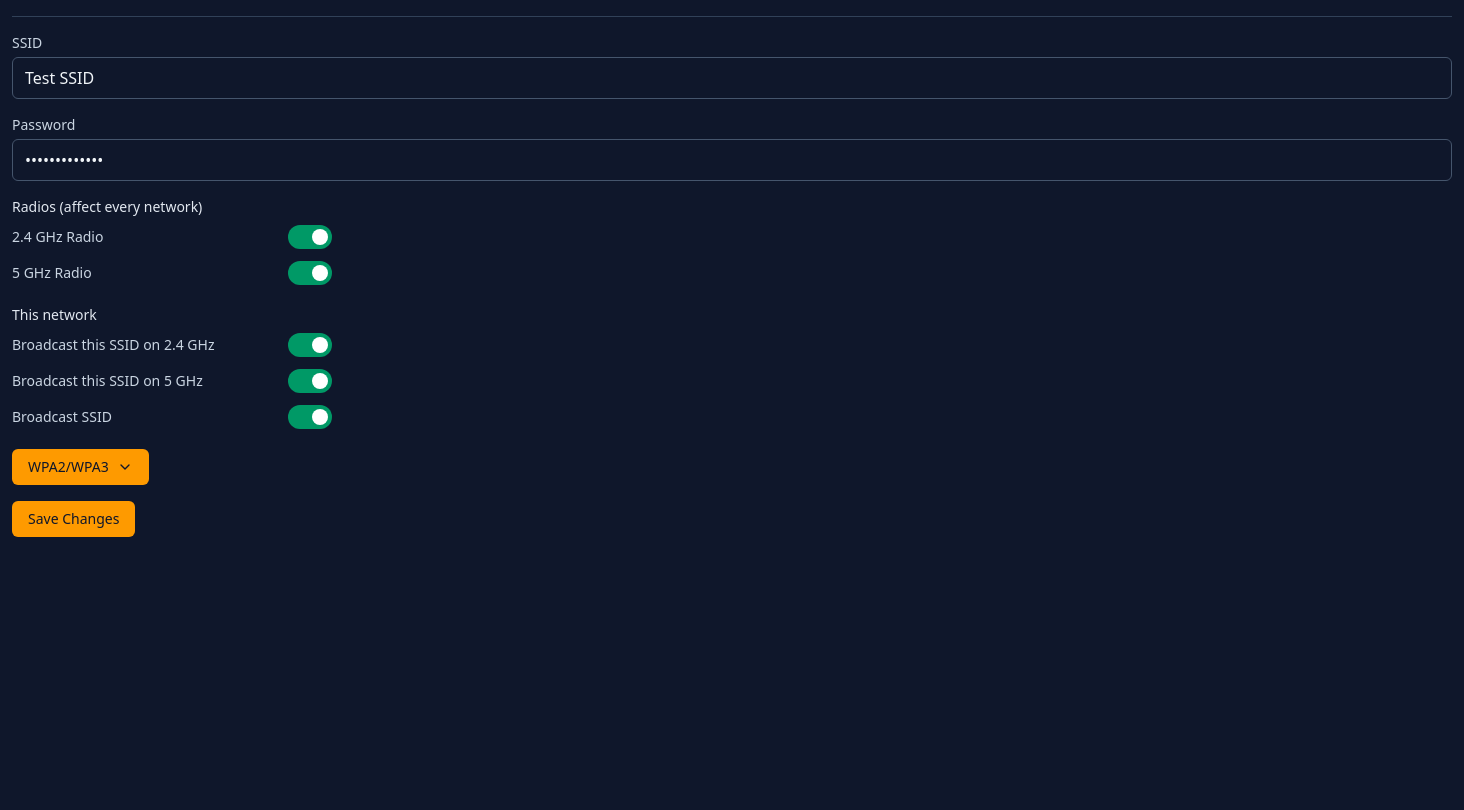
it: WifiSettings › requires explicit confirmation before disabling a radio
Click the switch named "5 GHz Radio". click: (310, 273)
box: 288,261 -> 332,285
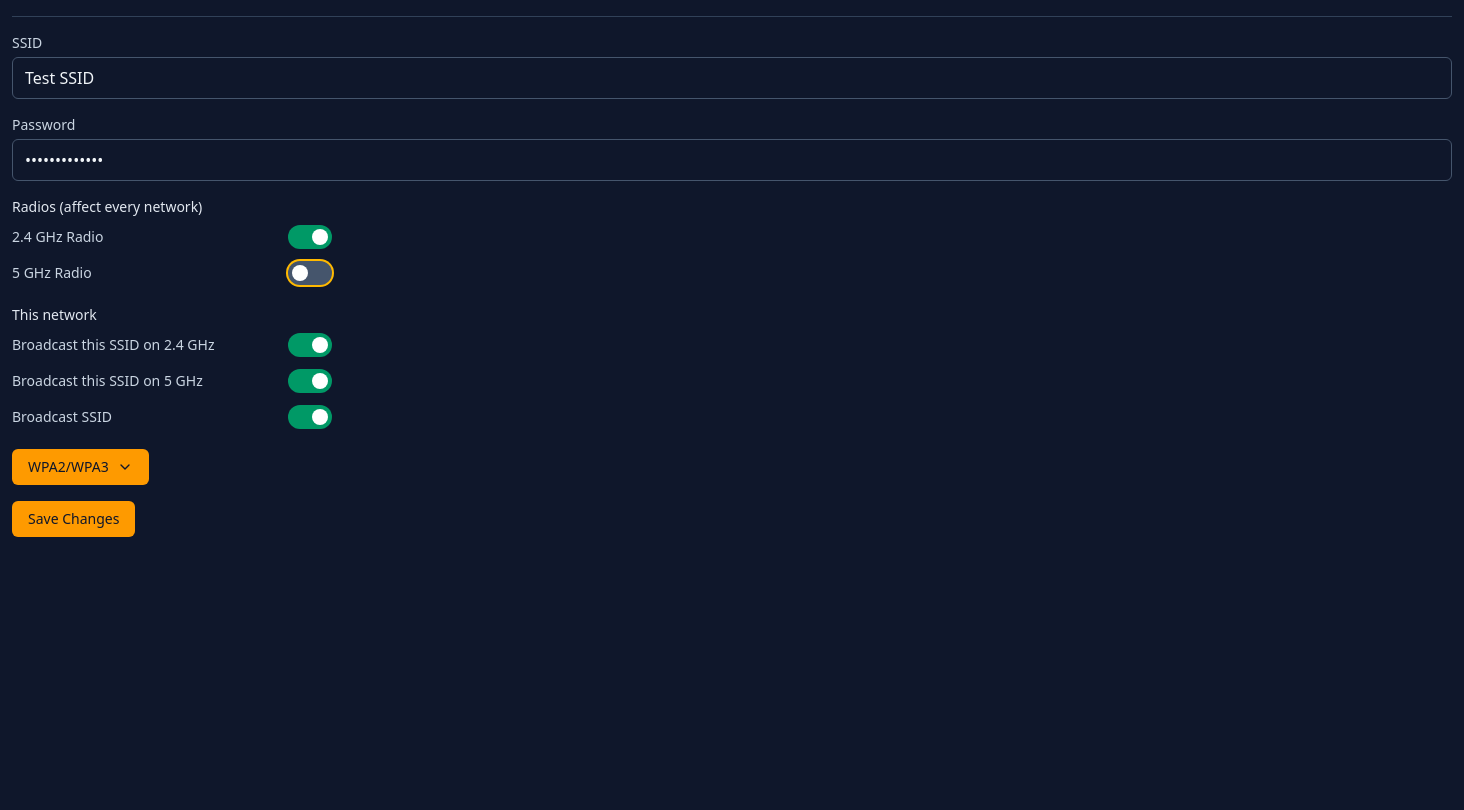
Click the button "Save Changes". click: (74, 519)
box: 12,501 -> 135,537
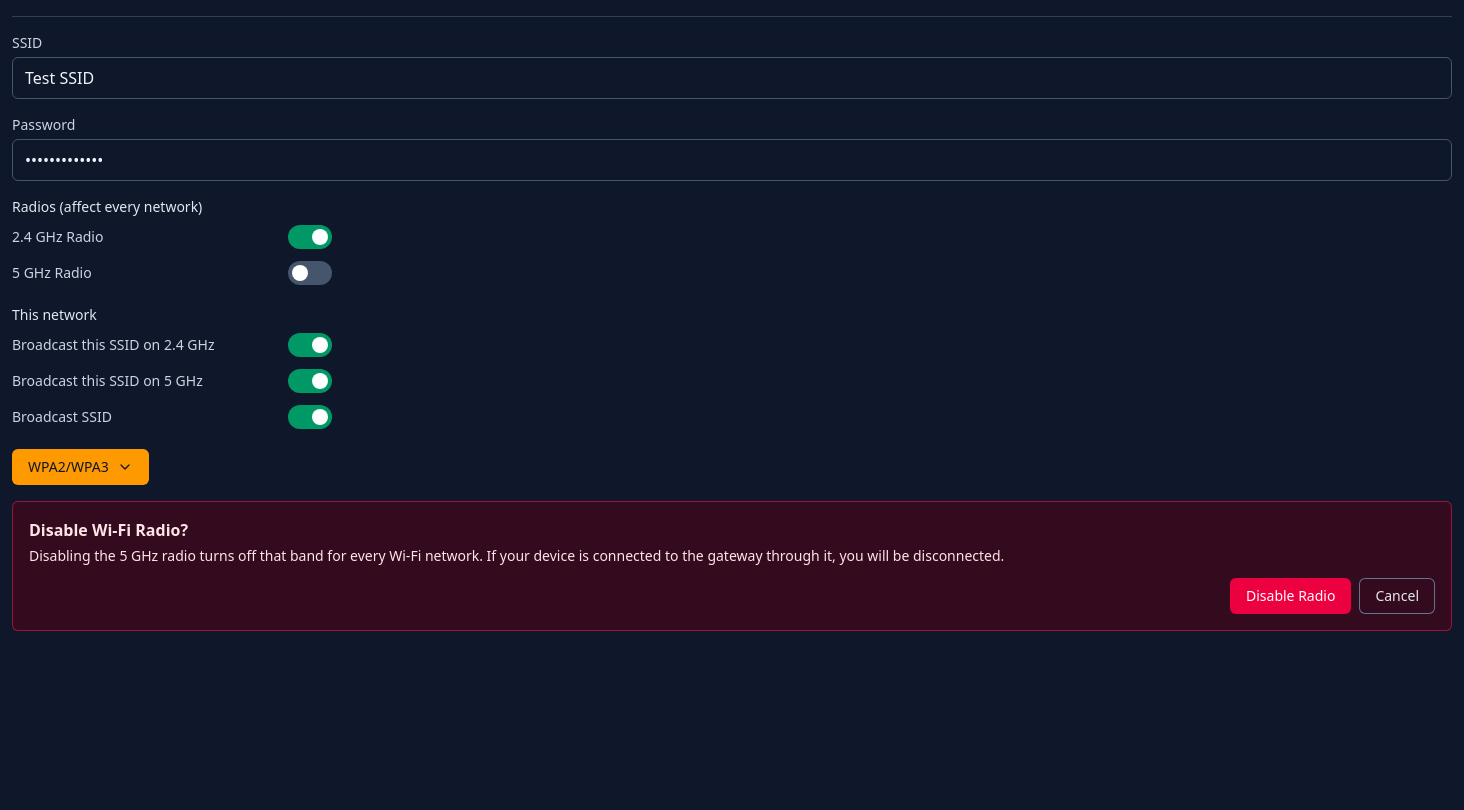
Expected: the message shows "If your device is connected to the gateway through it, you will be disconnected.", 158,546 -> 1004,565
